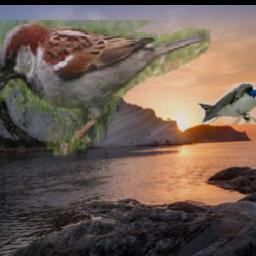Sparrow: (0, 20, 210, 155)
Swallow: (198, 83, 256, 125)
